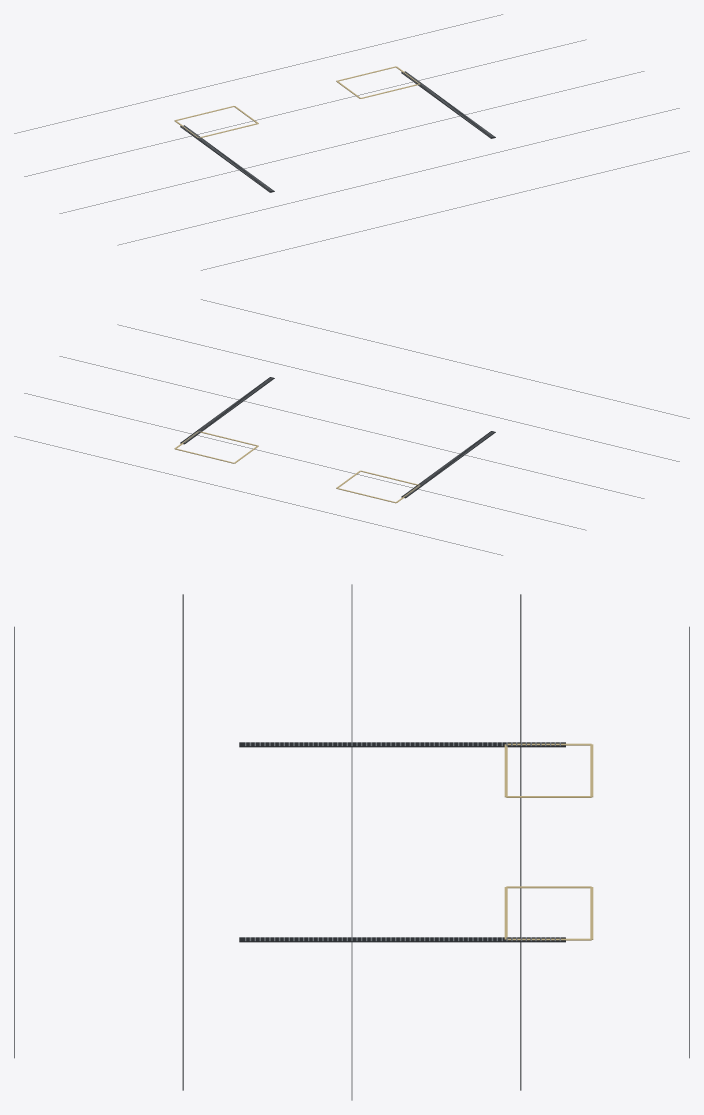
The model's file is BC_FloorDetails.fbx.
3 views of the same model, one above another, from view 1: azimuth 30°, elevation 25°; view 2: azimuth 150°, elevation 25°; view 3: azimuth 270°, elevation 25° (orthographic). The views are drawn at different scales.
Parts seen in each view (by area): view 1: BC_FloorDetails; view 2: BC_FloorDetails; view 3: BC_FloorDetails.
Boxes of the visible parts, left/top/right/bottom form: BC_FloorDetails: left=14, top=14, right=689, bottom=270; BC_FloorDetails: left=14, top=299, right=689, bottom=555; BC_FloorDetails: left=14, top=584, right=689, bottom=1100.
Size of the model in its own units: 2170 by 2.15 by 1201.
